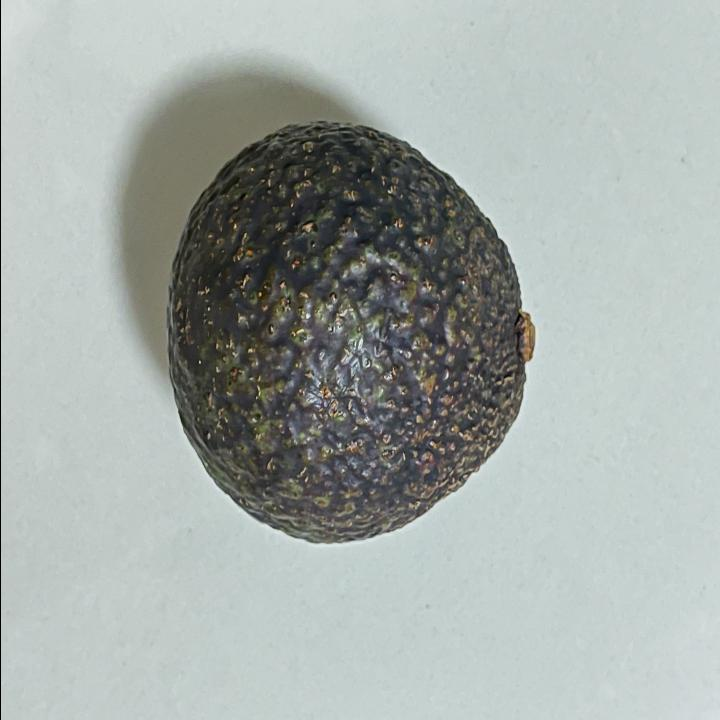Level2: (160, 109, 545, 552)
